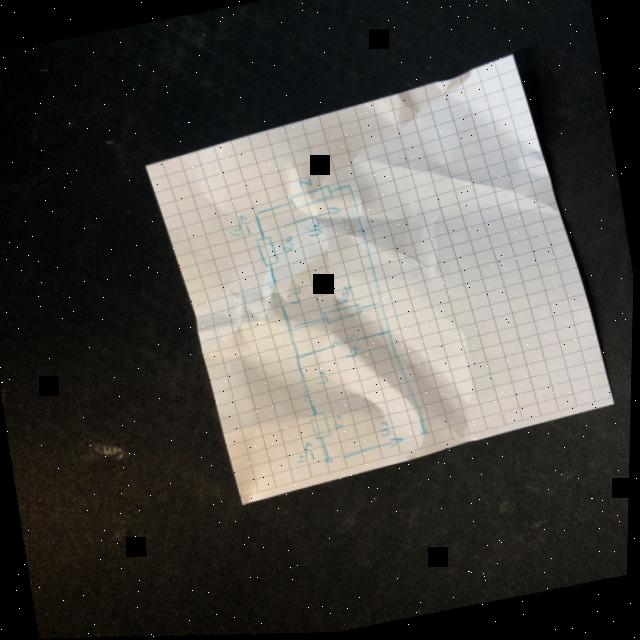inductor: (330, 334, 360, 350), (268, 282, 284, 310), (298, 378, 313, 405)
junction: (384, 330, 394, 337), (376, 300, 385, 307), (294, 356, 303, 363), (286, 327, 295, 334), (343, 183, 352, 190), (252, 211, 261, 218)
resistor: (288, 186, 334, 211), (322, 304, 363, 327), (253, 234, 279, 270), (309, 412, 333, 441)
terminal: (324, 456, 335, 466), (420, 429, 429, 438)
text: (335, 285, 354, 306), (285, 288, 304, 307), (276, 236, 295, 255), (304, 221, 323, 239), (332, 414, 347, 433), (342, 347, 362, 361), (378, 422, 393, 439), (315, 371, 330, 387), (227, 226, 243, 239), (297, 177, 312, 190), (295, 454, 309, 466)
